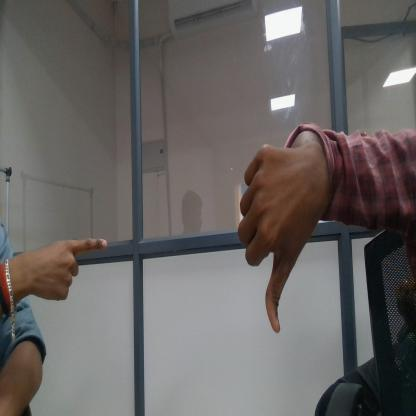Left: (34, 228, 110, 308)
Thumbs Down: (233, 141, 310, 343)
